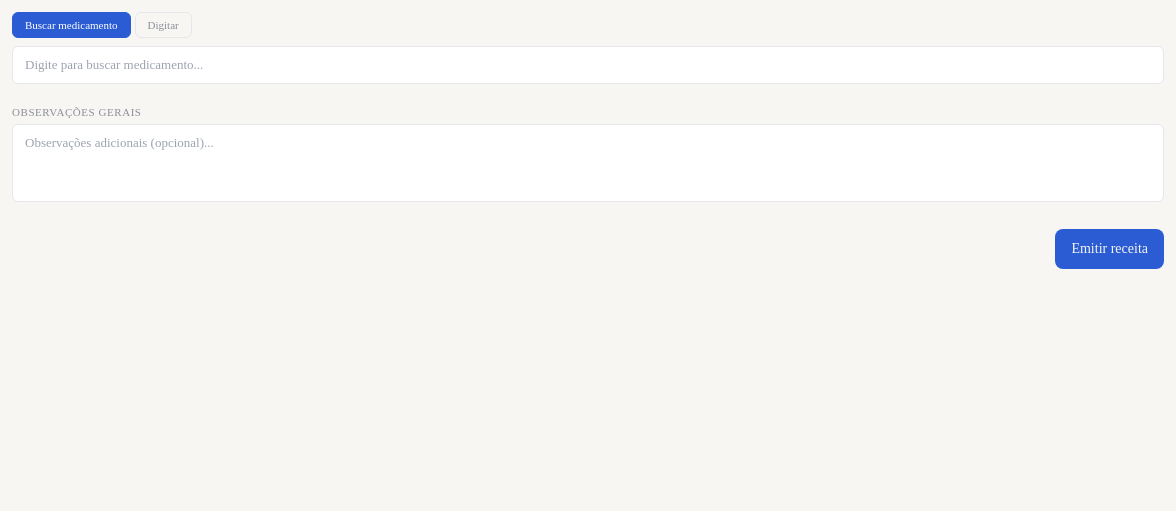
Test: PrescriptionForm (integration) › removes item from list on remove click
Type "dipi" into the field with test id "prescription-form-search".
click(588, 65); type("dipi")  # box [12,46,1164,84]
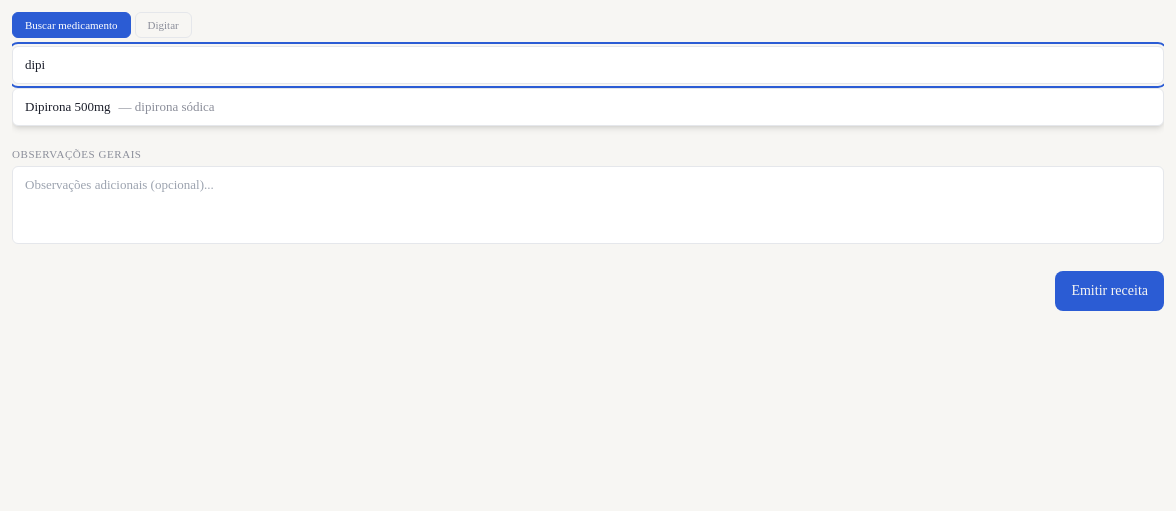
Check: the button with test id "prescription-form-search-result-med-uuid" is shown
Click the button with test id "prescription-form-search-result-med-uuid".
click(68, 106)  # box [13,89,1163,125]
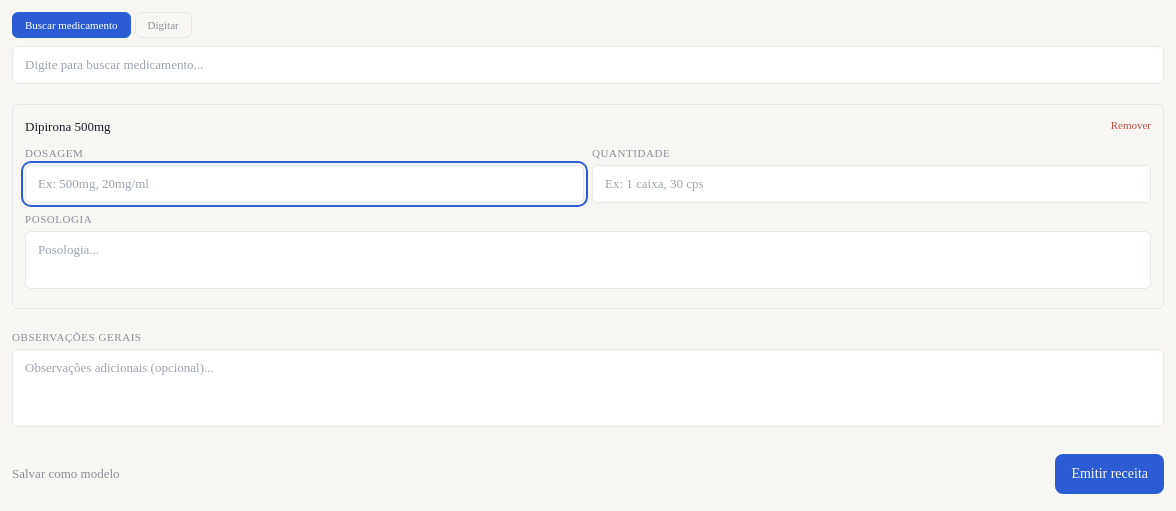
Click the button with test id "prescription-form-item-remove-0".
click(1131, 125)  # box [1111,117,1151,133]
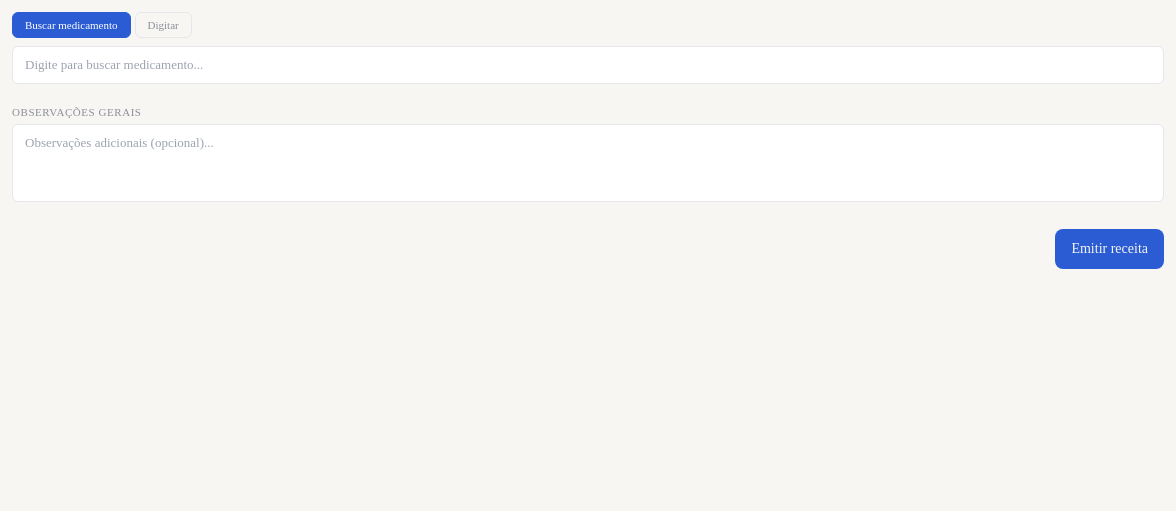
Check: the list item with test id "prescription-form-item-0" is gone
